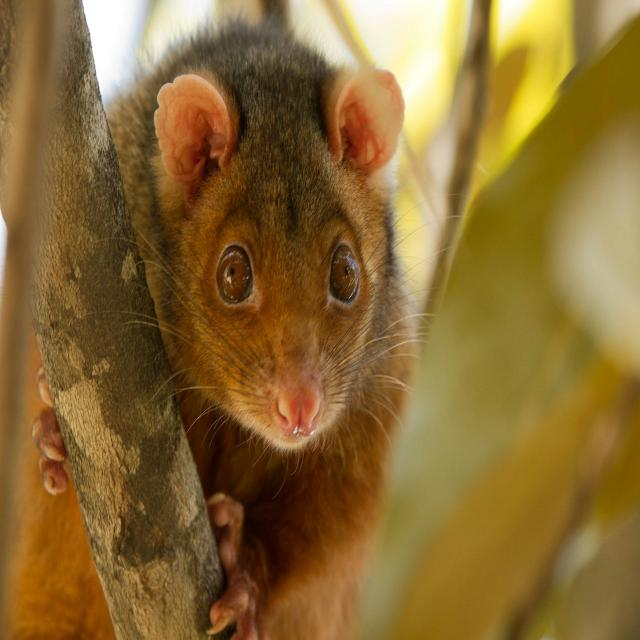Possum: (102, 29, 412, 613)
